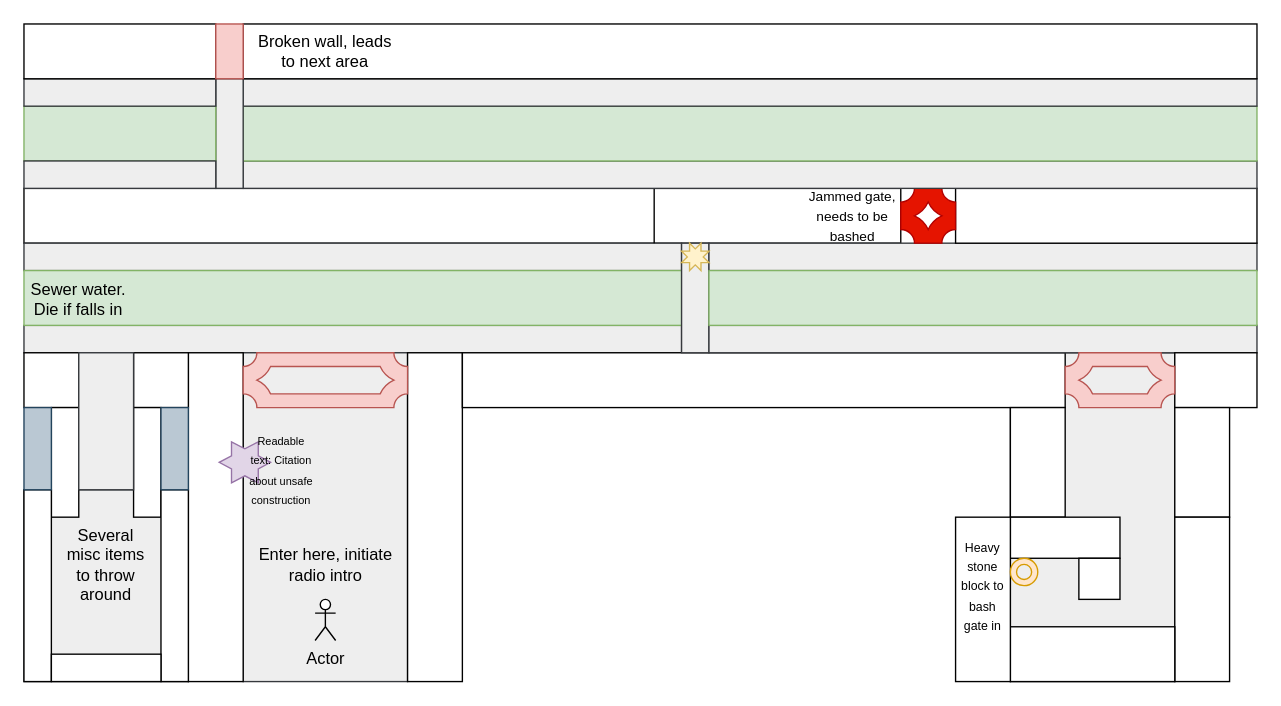
Some shapes in this 1281 by 706 pixel diagram are drawn without their labels. Each missing label, with the centre of its shape:
"Loud rumbling noise" goes at (x=352, y=256).
"Sewer Gate, learn how to open/shut gates" goes at (x=325, y=379).
